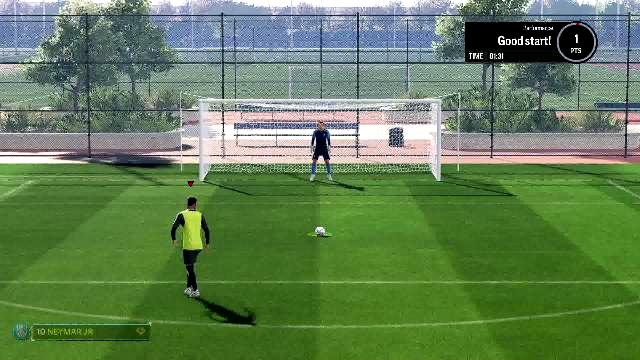bottom-left: (204, 144, 278, 178)
bottom-right: (358, 144, 434, 180)
center-down: (278, 144, 359, 180)
center-up: (282, 103, 361, 142)
football: (315, 226, 327, 236)
goalkeeper: (307, 120, 338, 182)
player: (170, 194, 220, 304)
top-left: (206, 103, 282, 142)
top-right: (362, 104, 438, 144)
